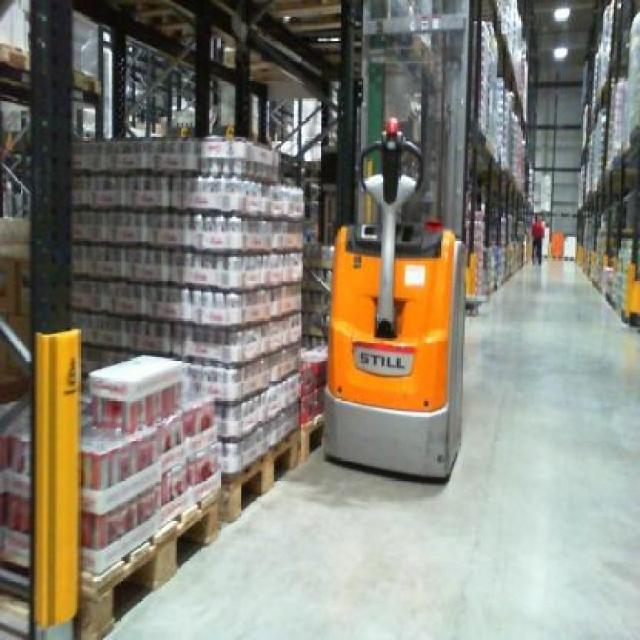pallets: (0, 135, 302, 637), (71, 135, 302, 406)
